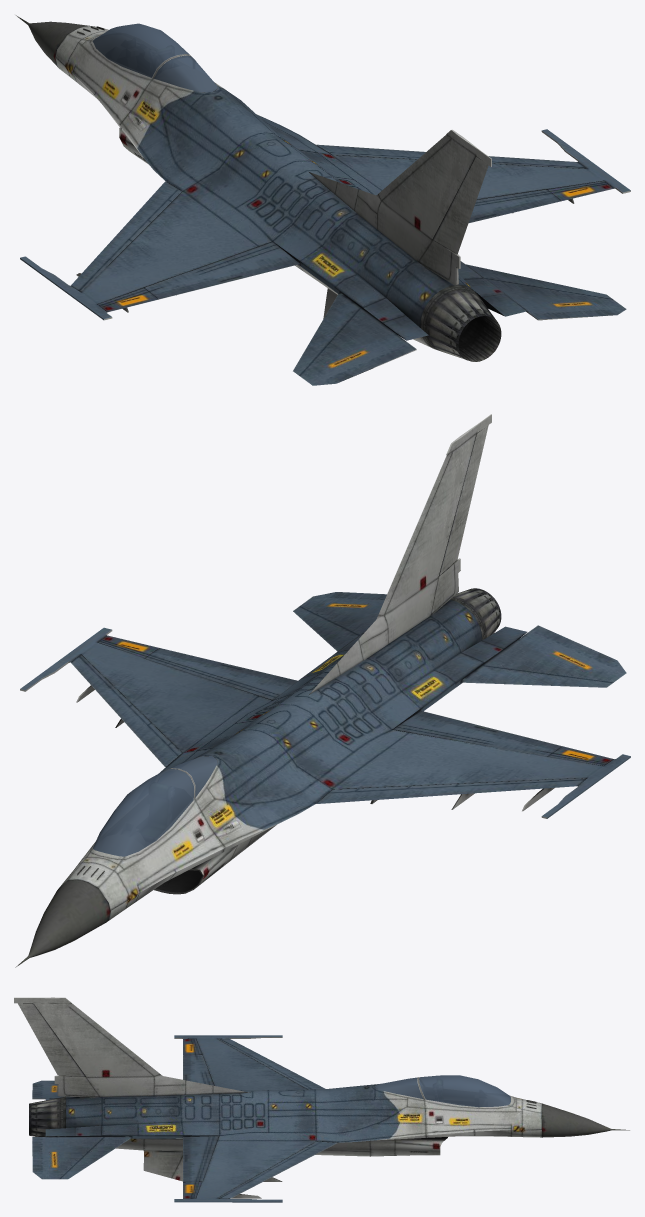
3 renders of one model, top to bottom at view 1: azimuth 30°, elevation 25°; view 2: azimuth 150°, elevation 25°; view 3: azimuth 270°, elevation 25°, orthographic. The views are drawn at different scales.
Parts seen in each view (by area): view 1: F 16, Glass; view 2: F 16, Glass; view 3: F 16, Glass.
Boxes of the visible parts, x1,y1,x2,y2 form: F 16: [15, 15, 630, 385]; Glass: [93, 23, 217, 92]; F 16: [15, 414, 630, 967]; Glass: [93, 756, 217, 856]; F 16: [14, 997, 629, 1202]; Glass: [374, 1075, 510, 1107].
Size of the model in its own units: 9.6 by 4.64 by 15.06.
2 materials, 1 textured.
